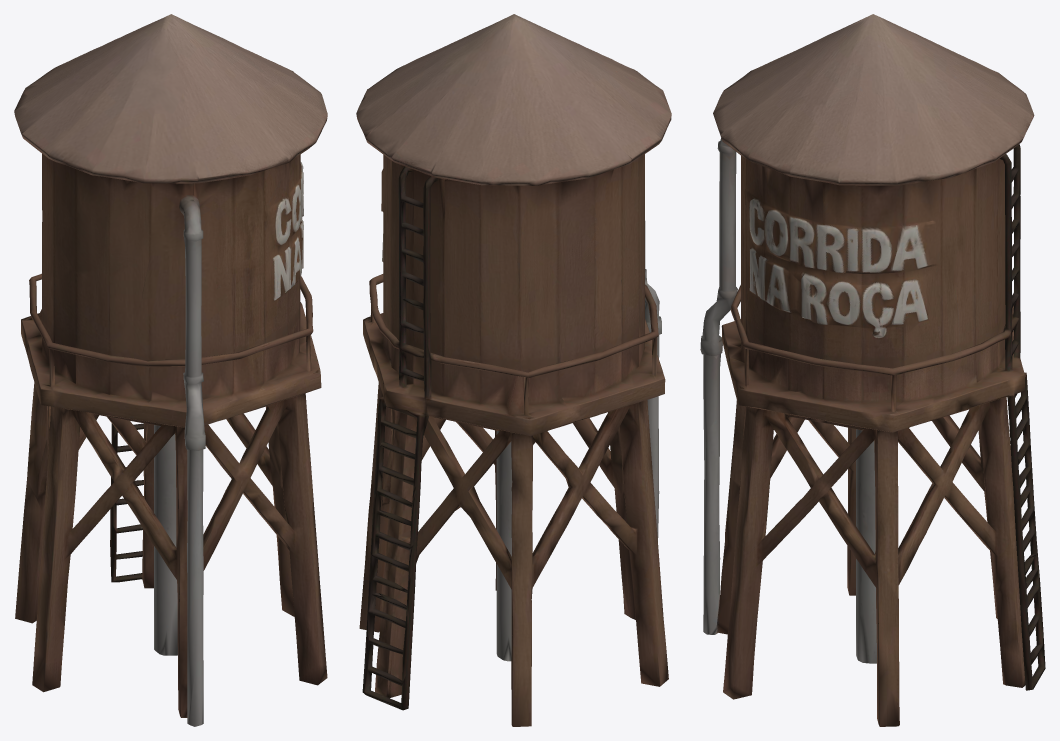
Rendered from tripo_convert_1b0b395b-6015-43da-a2cb-d892e89b050a.fbx.
3 views of the same model, side by side, from view 1: azimuth 30°, elevation 25°; view 2: azimuth 150°, elevation 25°; view 3: azimuth 270°, elevation 25° (orthographic).
Parts seen in each view (by area): view 1: tripo_node_1b0b395b; view 2: tripo_node_1b0b395b; view 3: tripo_node_1b0b395b.
Part boxes in pixels (<box>): tripo_node_1b0b395b: <box>14,14,327,726</box>; tripo_node_1b0b395b: <box>356,14,671,726</box>; tripo_node_1b0b395b: <box>700,14,1045,726</box>.
Bounding box in the file's own units: 0.468 × 1 × 0.4846.
1 material, 1 textured.
